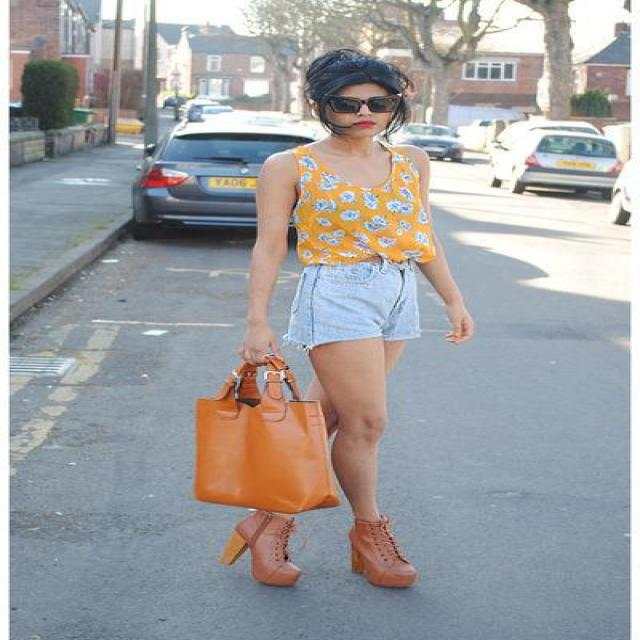bag: (194, 356, 339, 511)
shirt: (296, 159, 432, 266)
shoe: (221, 508, 414, 591)
skirt: (291, 259, 421, 345)
